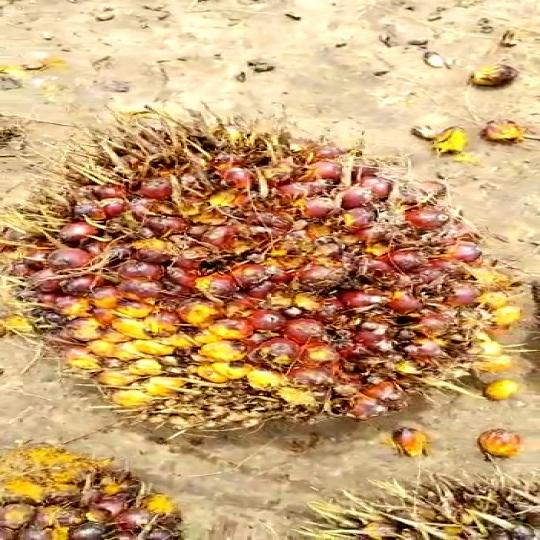masak: (0, 104, 513, 474)
